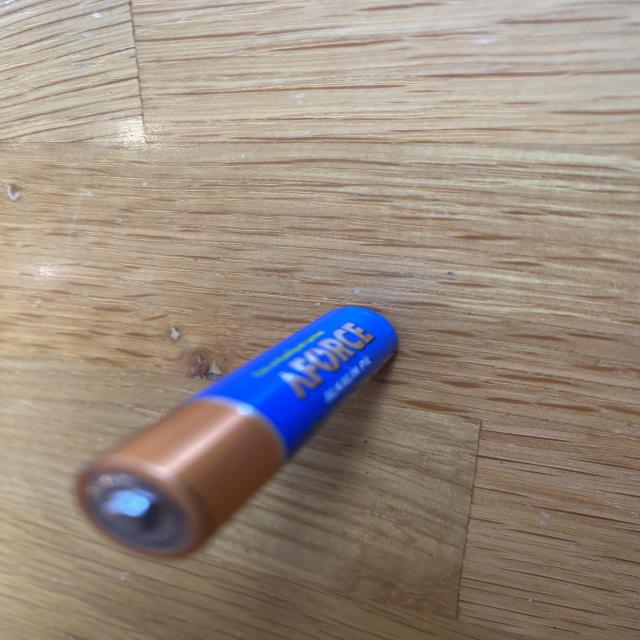AAA: (77, 304, 399, 558)
